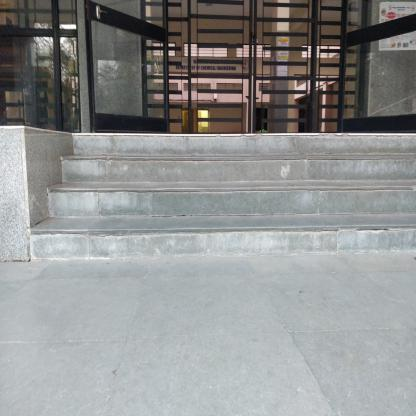stairs: (83, 137, 307, 270)
